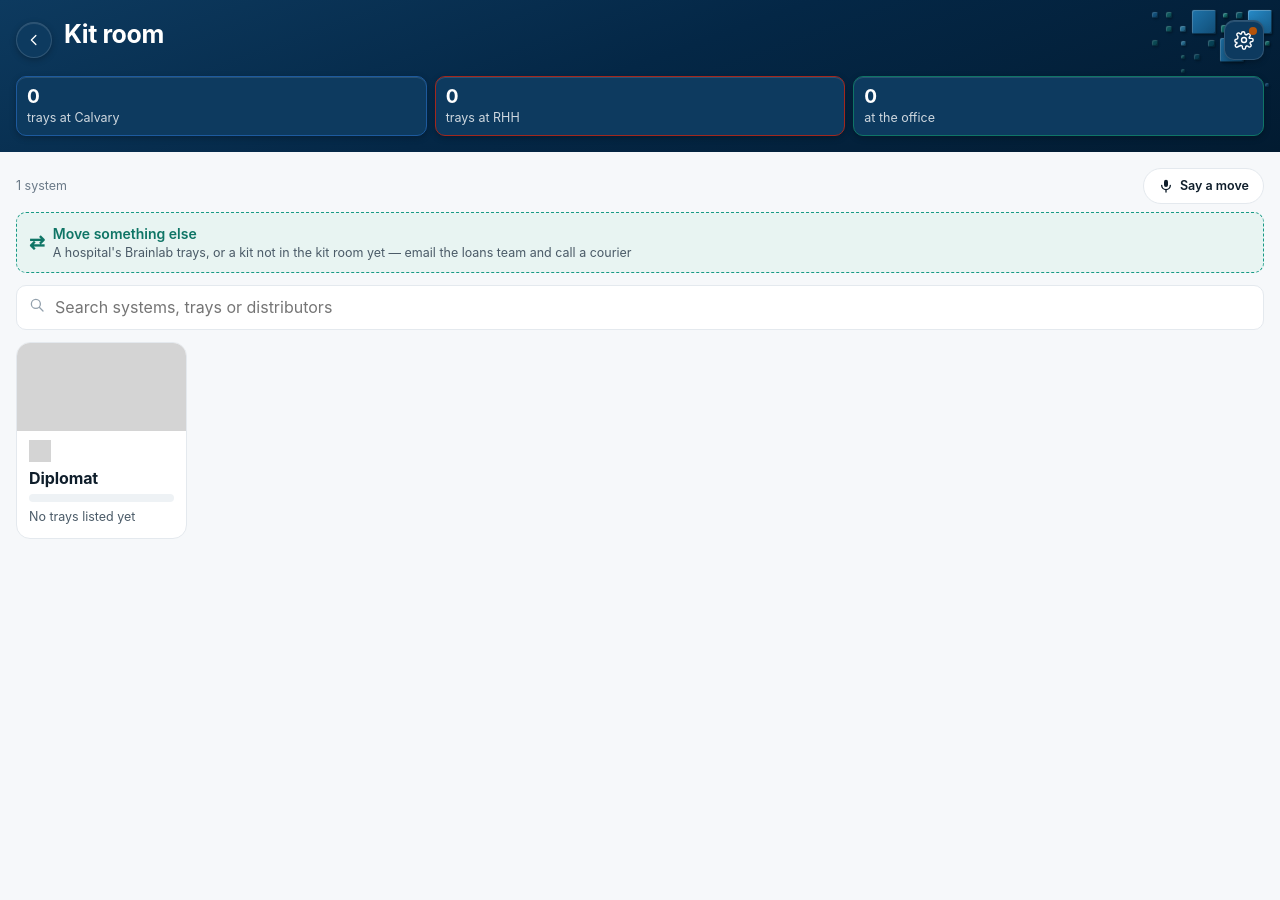
Test case: the stock-take › is one tap from the system, and the set shows as checked
Click the button with aria-label "Open Diplomat" at (102, 440), box [17,342,186,538]
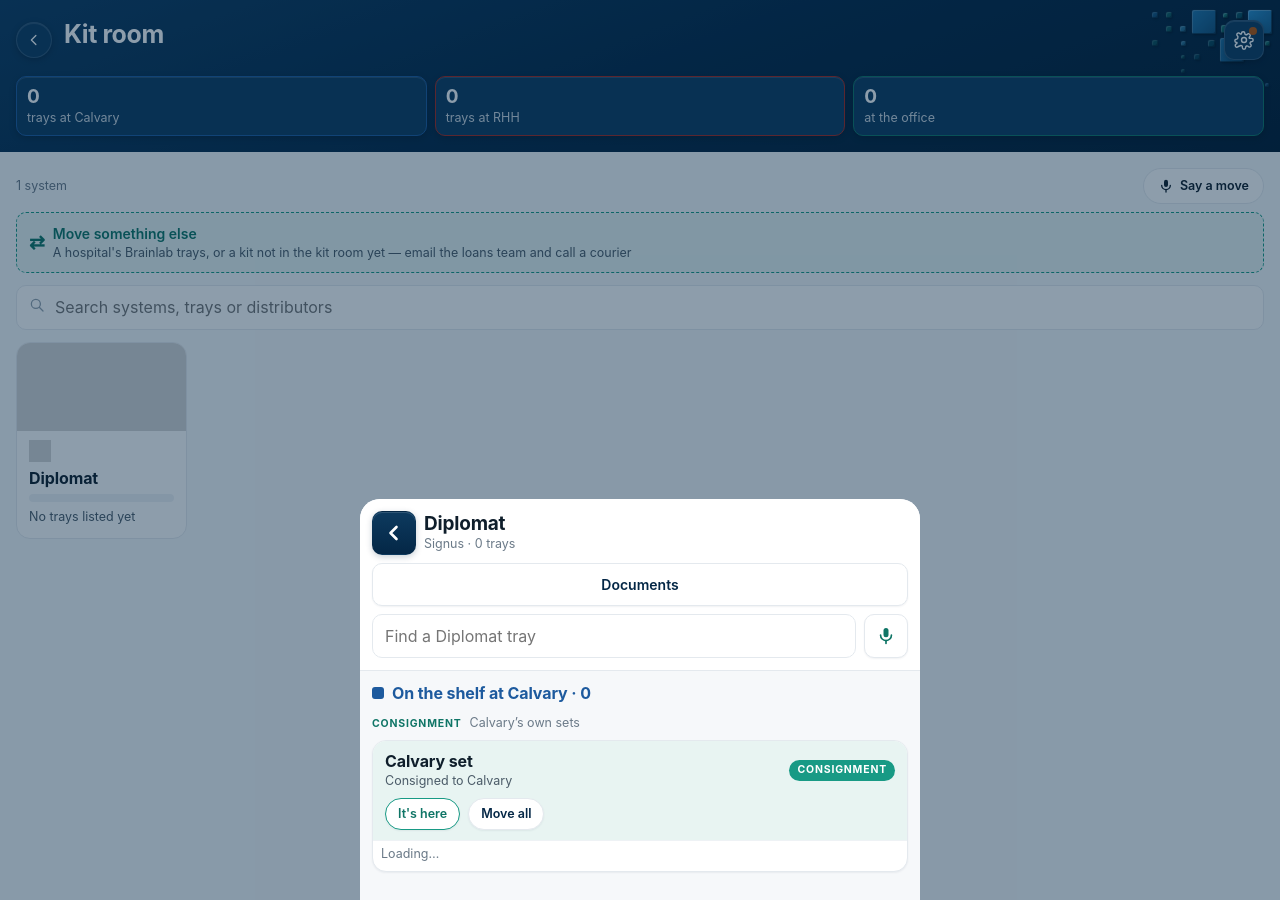
Click the button with aria-label "Calvary set: it's here" at (423, 814), box [385,798,460,830]
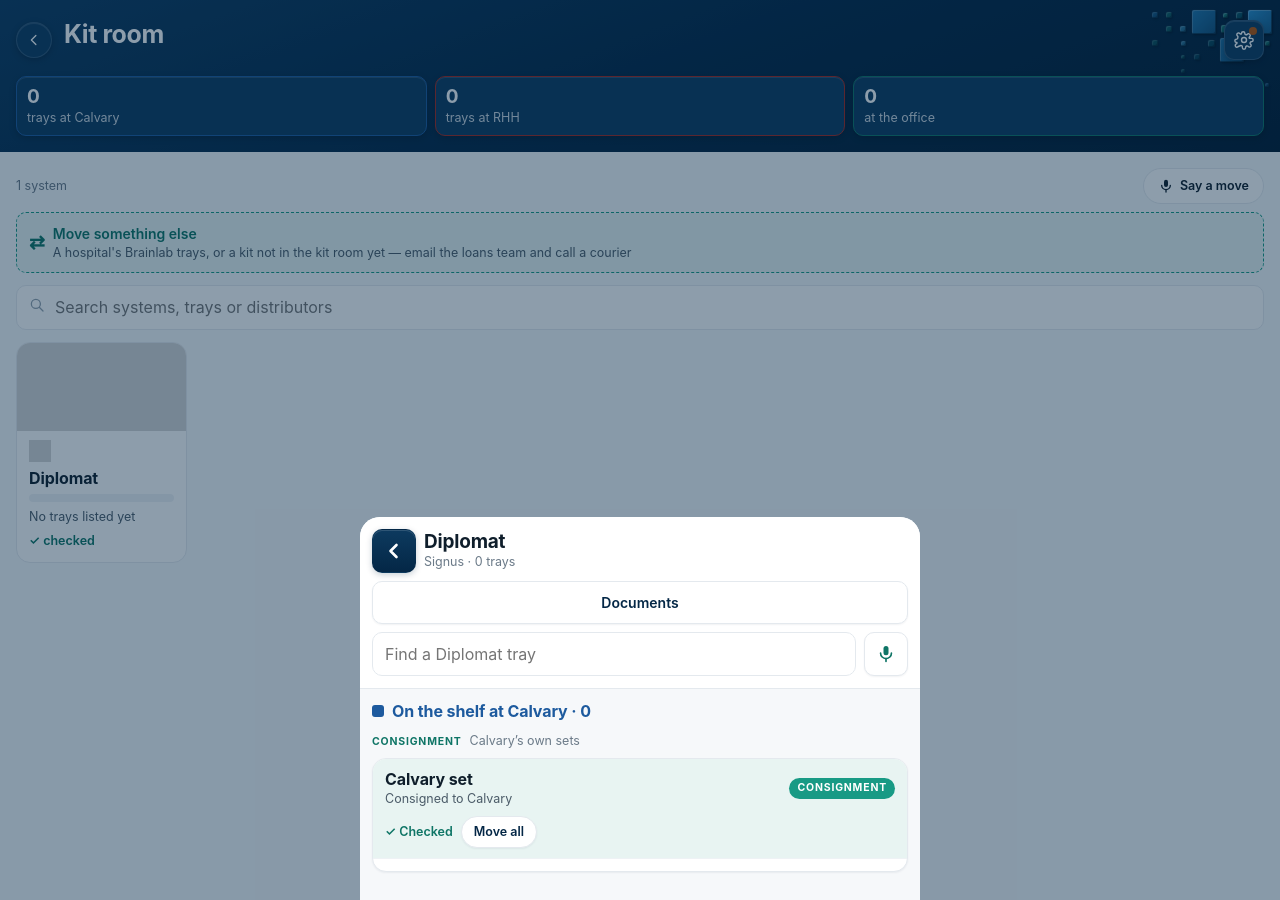
Result: the text "✓ Checked" is shown at [385,823,453,841]
